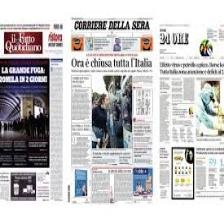paper: (67, 13, 159, 209), (0, 12, 69, 211), (155, 16, 224, 208)
